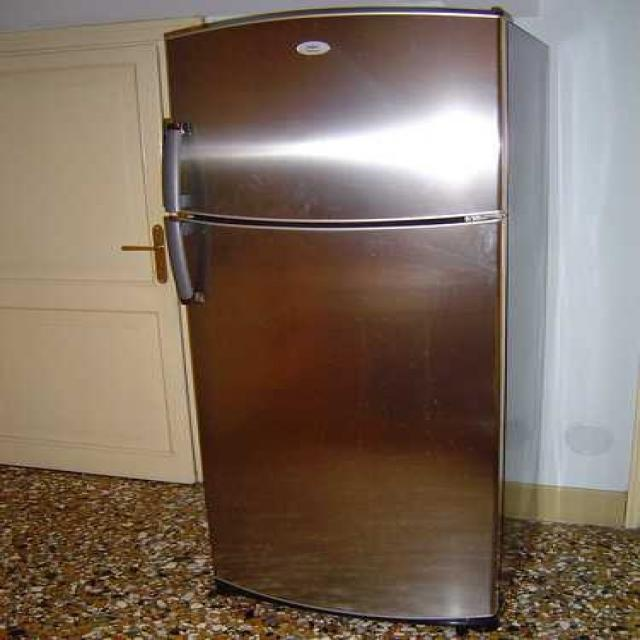refrigerator: (162, 7, 511, 626)
